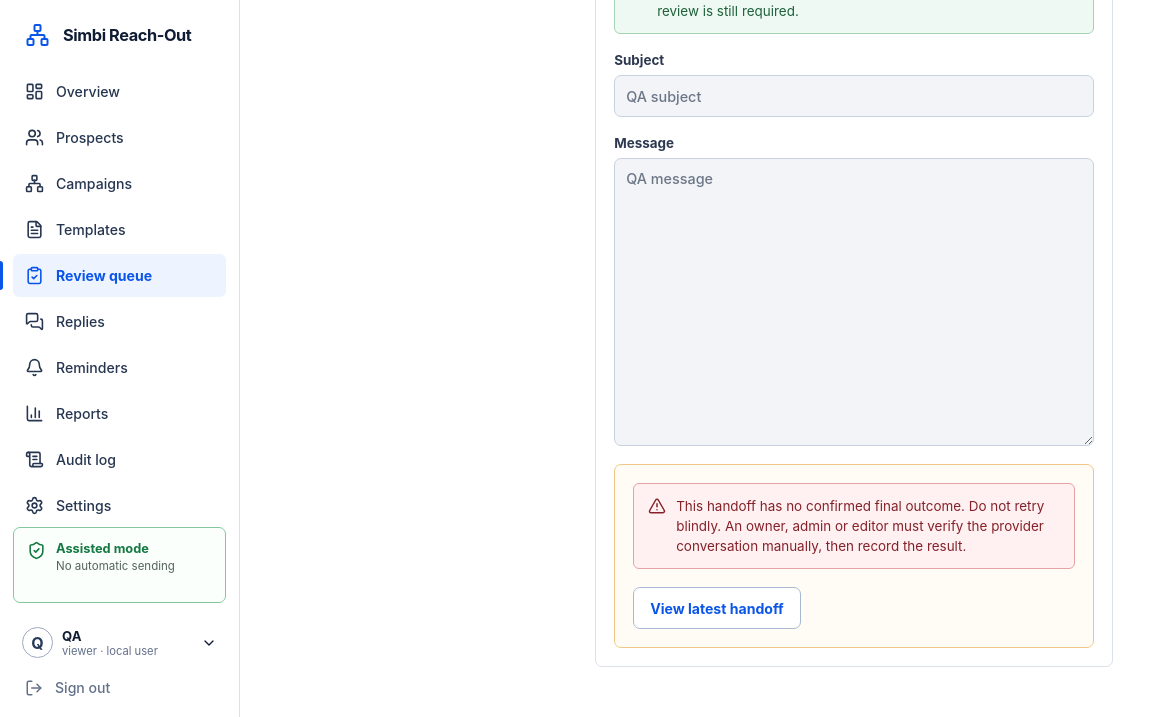
viewer routes reflect existing server permissions › keeps handoff_created drafts read-only, including handoff history
(page scrolled)
Check: the text box labelled "Message" is shown, box [614,158,1094,446]
What coordinates should you click on to do the following:
click the button "View latest handoff"
I would click on:
 (717, 608)
Its box is [633,587,801,629].
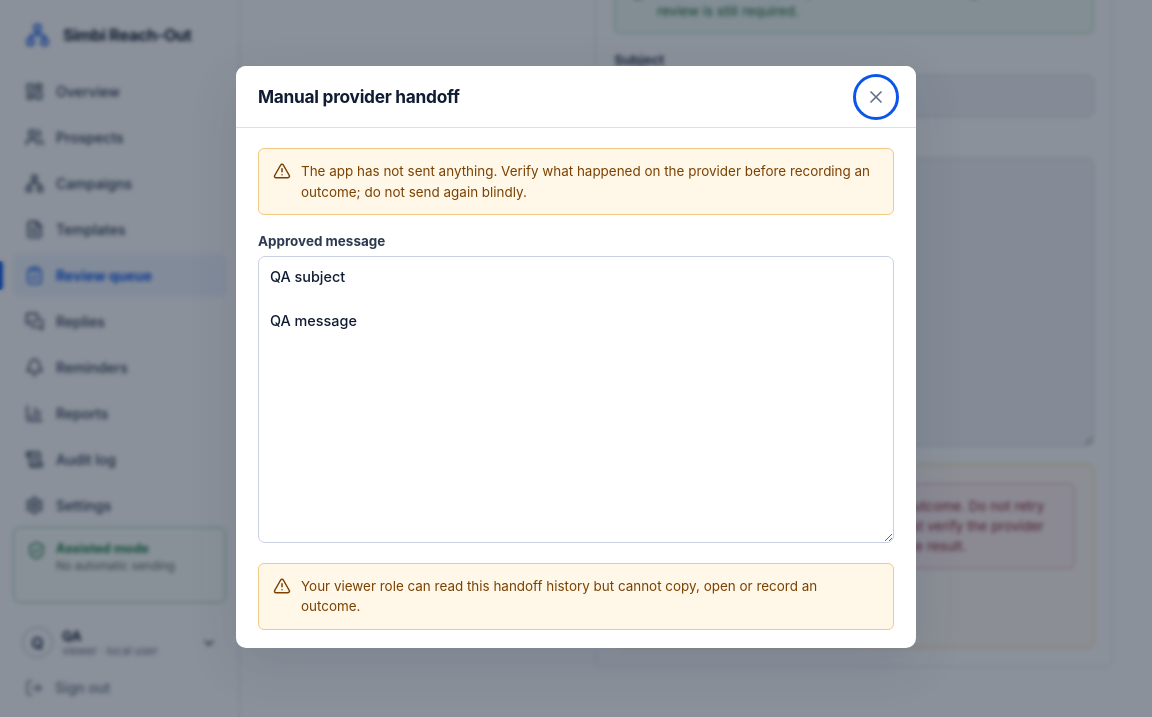
Check: the dialog is shown, box [236,66,916,648]
